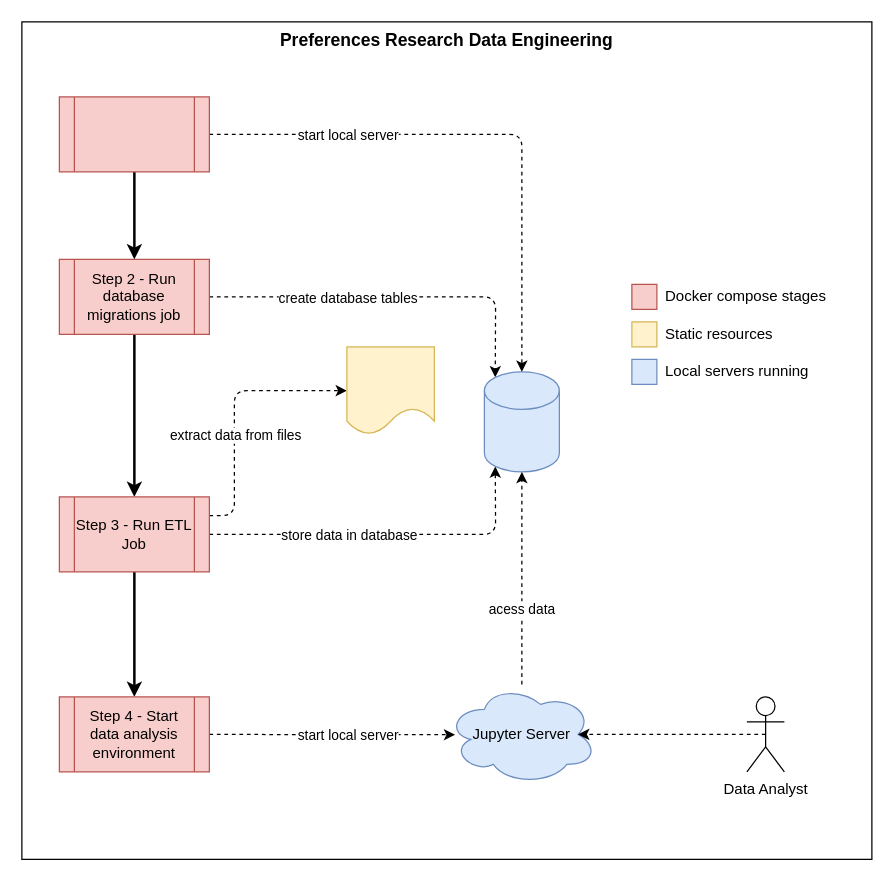
Image size: 894x881. Some labels were removed from this diagram. The centre of each missing label's shape, as x and y in pixels:
MySQL: [521,421]
Research data by day (.zip file): [390,390]
Step 1 - Create database instance: [133,134]
